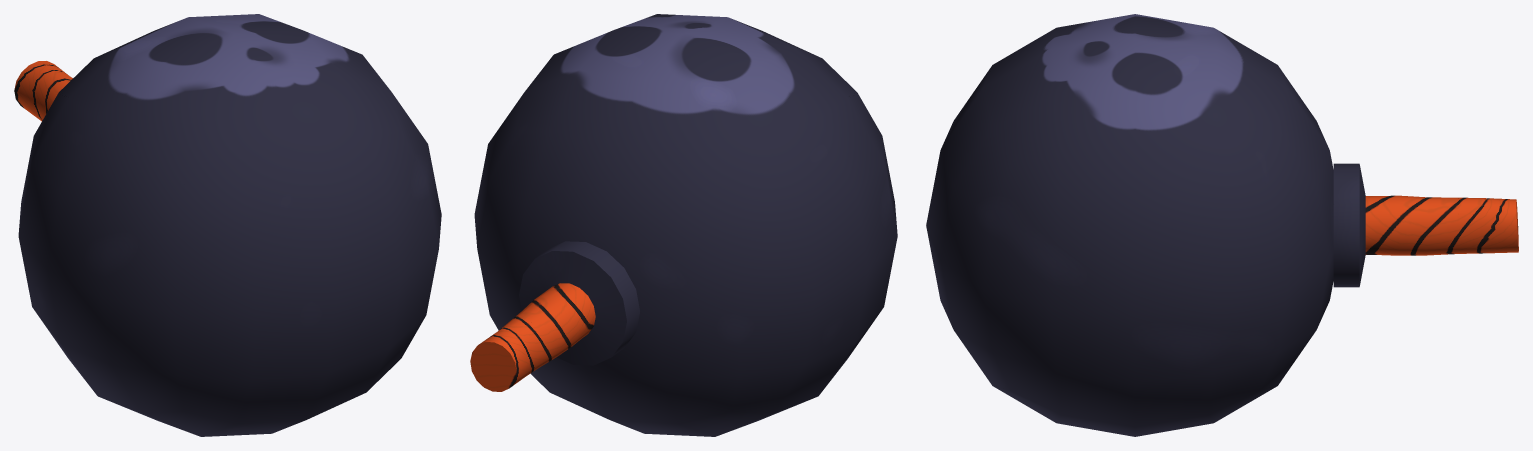
File: Bomb.fbx
3 renders of one model, left to right at view 1: azimuth 30°, elevation 25°; view 2: azimuth 150°, elevation 25°; view 3: azimuth 270°, elevation 25°, orthographic.
Parts seen in each view (by area): view 1: Circle.002_Circle.001, Circle.002_Circle.002; view 2: Circle.002_Circle.001, Circle.002_Circle.002; view 3: Circle.002_Circle.001, Circle.002_Circle.002.
Boxes of the visible parts, box(x1,y1,x2,y2) form: Circle.002_Circle.001: box(18, 14, 441, 436); Circle.002_Circle.002: box(14, 61, 72, 121); Circle.002_Circle.001: box(474, 14, 897, 436); Circle.002_Circle.002: box(470, 283, 595, 391); Circle.002_Circle.001: box(926, 14, 1365, 436); Circle.002_Circle.002: box(1365, 195, 1518, 255).
Bounding box in the file's own units: 0.1679 × 0.1679 × 0.2381.
1 material, 1 textured.
